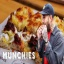pizza: (5, 2, 39, 29)
